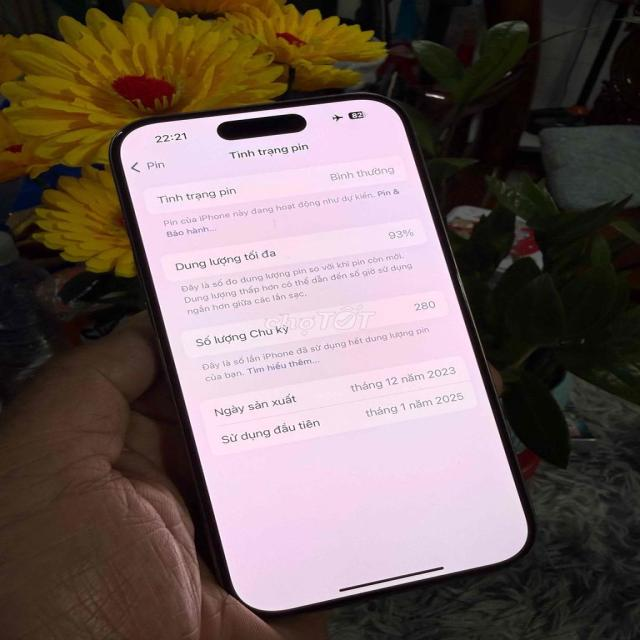gen_15: (86, 89, 546, 620)
